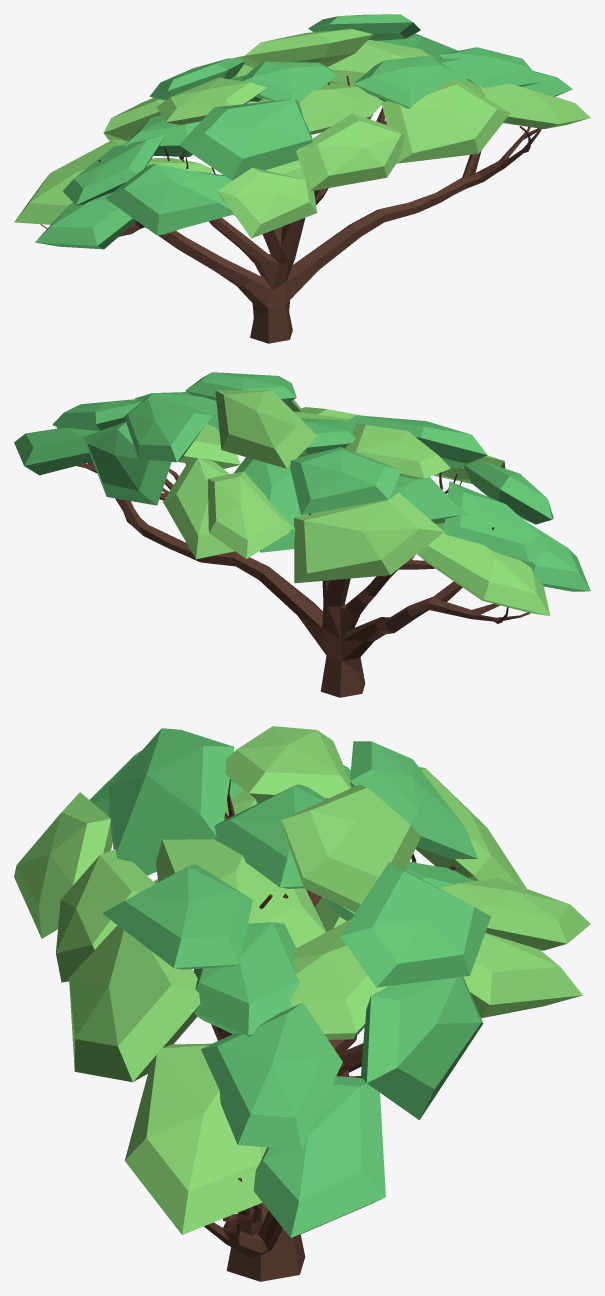
Rendered from Tree_Type9_4.fbx.
The picture shows the model from 3 angles, top to bottom: view 1: azimuth 30°, elevation 25°; view 2: azimuth 150°, elevation 25°; view 3: azimuth 270°, elevation 25°; orthographic projection. The views are drawn at different scales.
Parts seen in each view (by area): view 1: Tree_Type9_4; view 2: Tree_Type9_4; view 3: Tree_Type9_4.
Part boxes in pixels (<box>): Tree_Type9_4: <box>14,14,590,343</box>; Tree_Type9_4: <box>14,372,590,697</box>; Tree_Type9_4: <box>14,726,590,1281</box>.
Size of the model in its own units: 1224 by 594 by 610.
